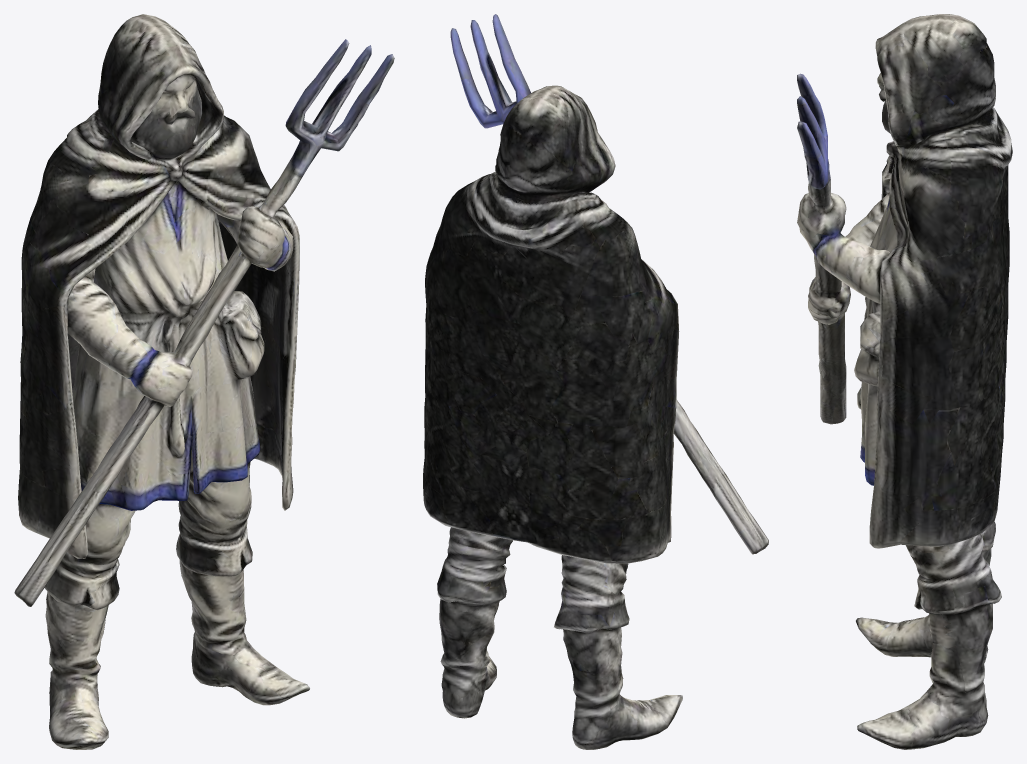
Rendered from Human_Farmer.glb.
The picture shows the model from 3 angles, left to right: view 1: azimuth 30°, elevation 25°; view 2: azimuth 150°, elevation 25°; view 3: azimuth 270°, elevation 25°; orthographic projection. The views are drawn at different scales.
Size of the model in its own units: 1.04 by 1.91 by 0.548.
Materials: 1 (1 with a texture image).
